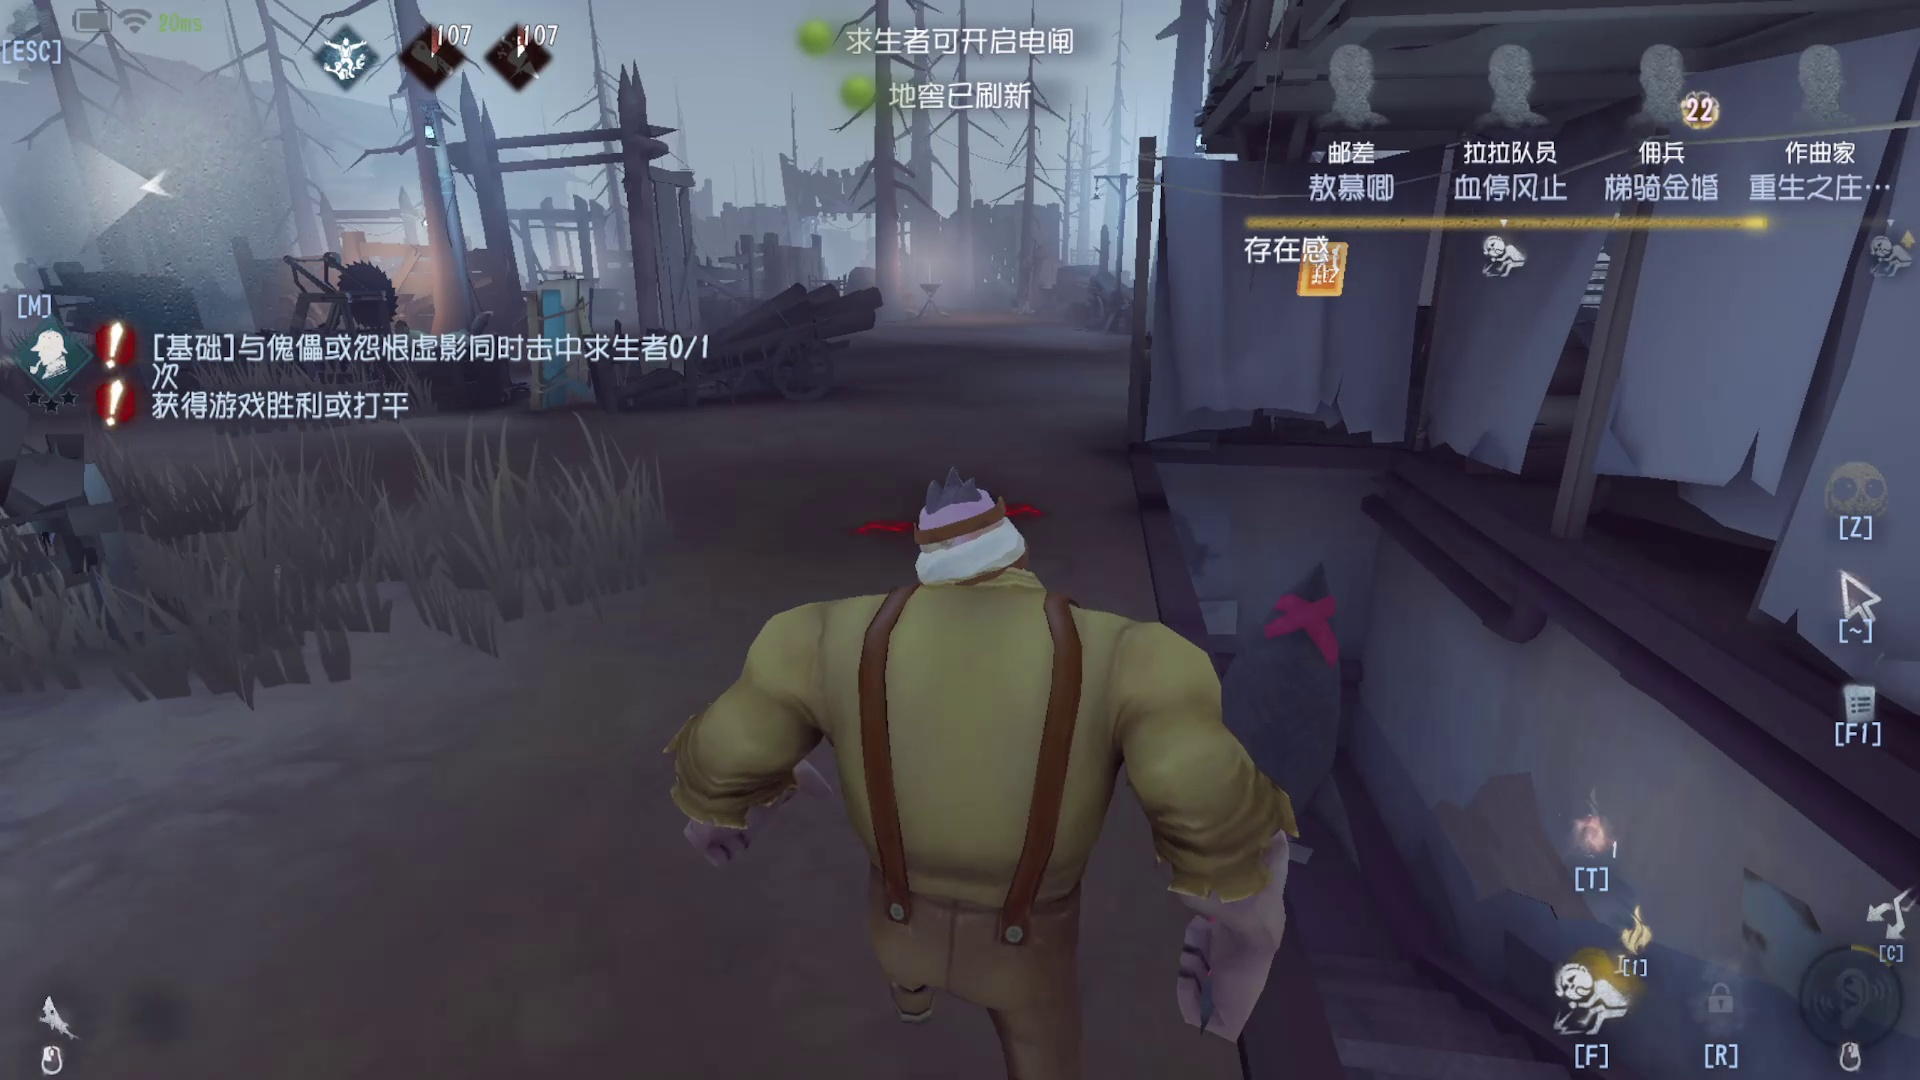木板: (488, 258, 622, 417)
求生者: (1312, 227, 1364, 293)
设置: (1, 1, 78, 75)
